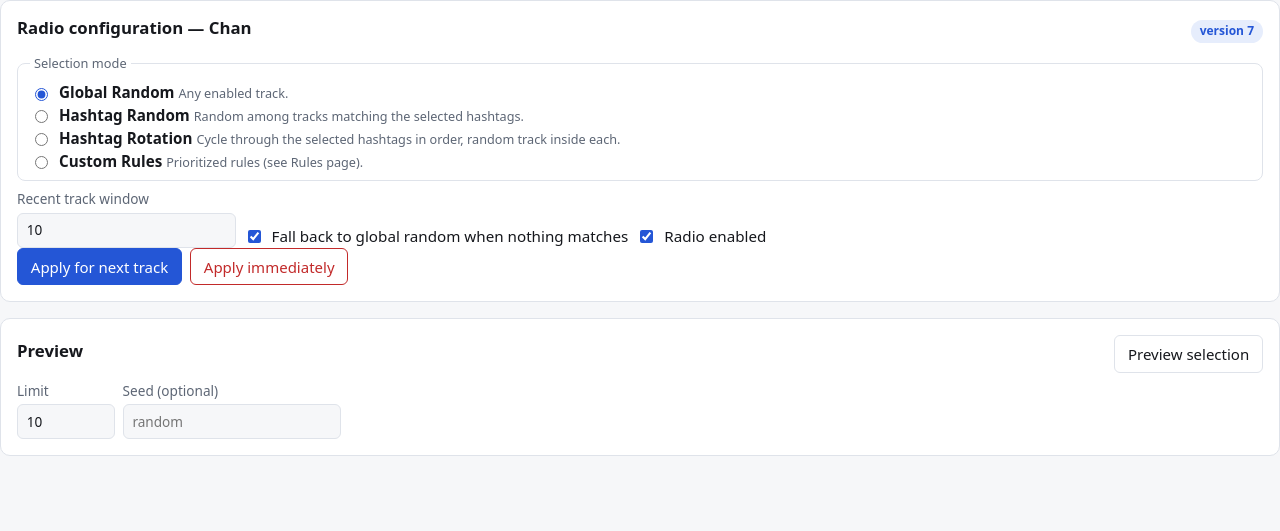
Test case: <RadioConfig /> › shows a conflict banner when another admin changed the config (409)
Click the button "Apply for next track" at (100, 267), box x1=17 y1=248 x2=182 y2=285
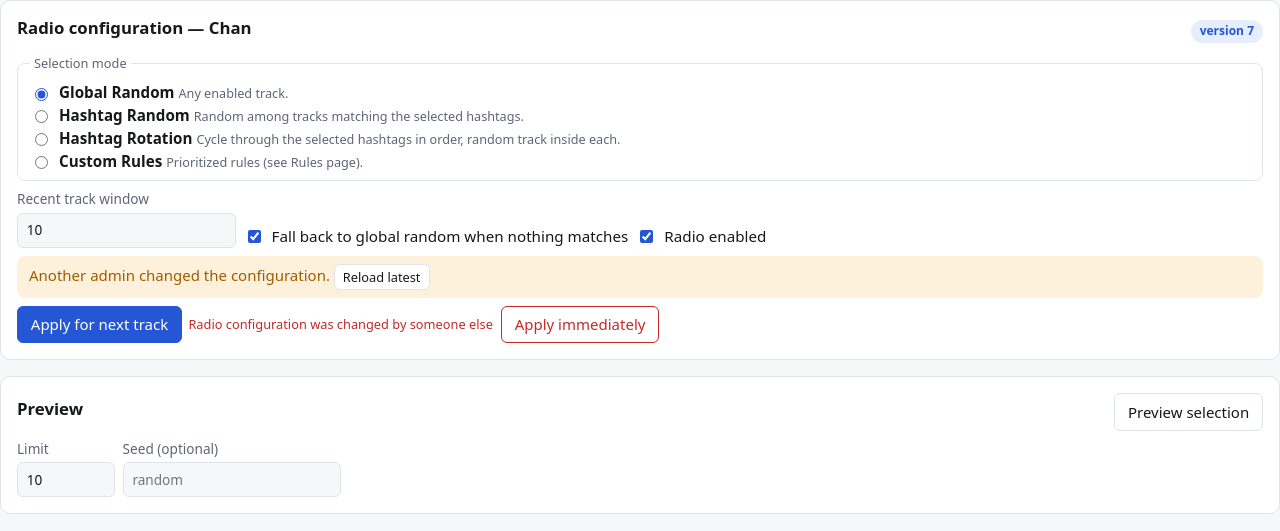
expect the text "Another admin changed the configuration. Reload latest" is shown: met, box x1=17 y1=256 x2=1263 y2=298
